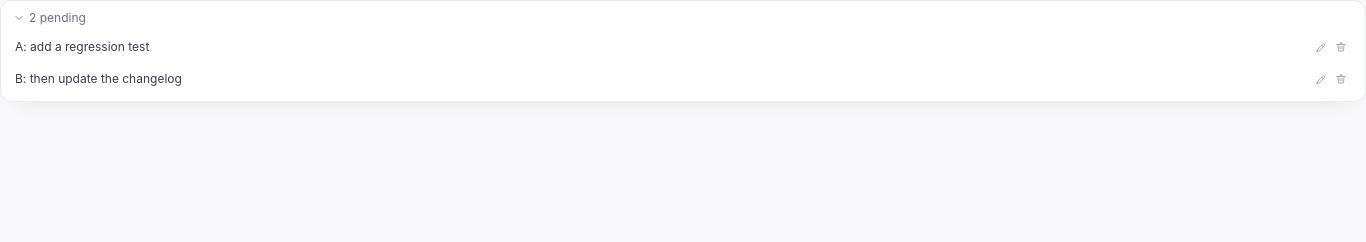
it: PendingMessageQueue › keeps the draft and shows what won when another tab changed the message first
Click the button named "Edit queued message" in the row of "A: add a regression test" at (1321, 47), box top-left (1311, 37), bottom-right (1331, 57)
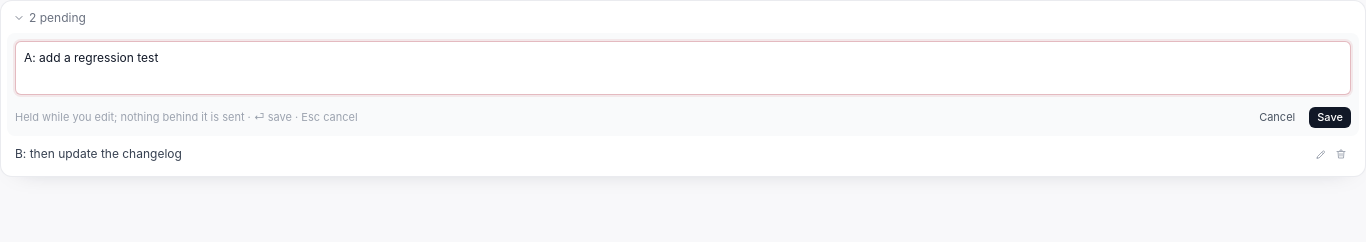
Replace the text in the text box named "Edit queued message" with "my version" at (683, 68), box top-left (15, 41), bottom-right (1351, 95)
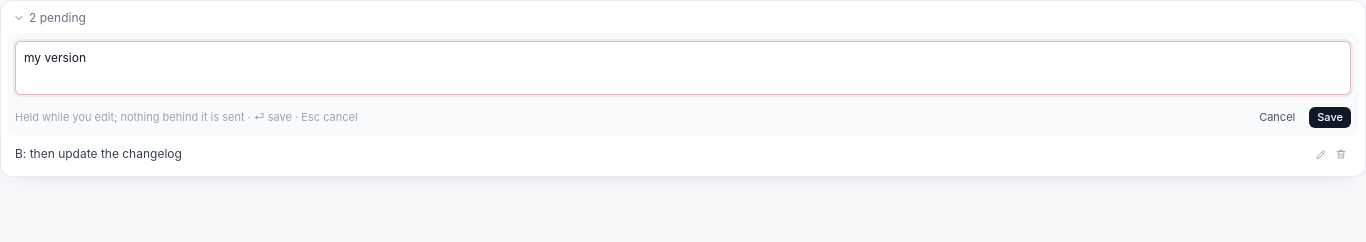
Click the button "Save" at (1330, 117), box top-left (1309, 107), bottom-right (1351, 128)
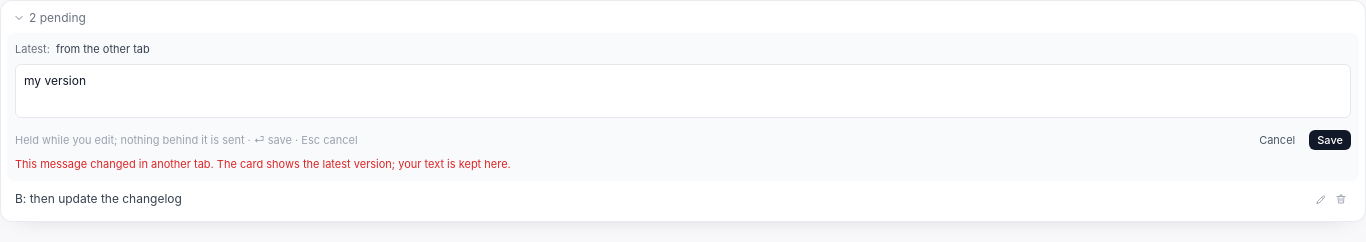
Result: the message shows "another tab" at top-left (15, 157), bottom-right (511, 171)
Result: the text "from the other tab" is shown at top-left (56, 41), bottom-right (150, 58)
